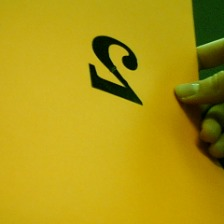orange2: (82, 27, 148, 110)
